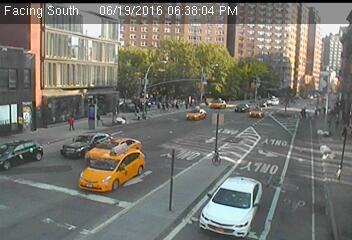neg: (174, 139, 190, 161), (184, 84, 200, 105), (134, 155, 149, 176), (146, 121, 160, 140), (225, 122, 239, 140), (108, 149, 121, 168), (298, 104, 310, 121), (232, 65, 244, 82), (150, 188, 162, 203), (173, 195, 185, 210), (138, 74, 149, 90), (274, 138, 285, 153), (208, 74, 219, 89), (222, 191, 232, 205), (267, 68, 277, 82), (75, 168, 85, 181), (133, 103, 142, 115), (169, 78, 178, 89), (127, 139, 135, 149), (261, 111, 268, 120)
pos: (64, 112, 76, 128), (173, 99, 181, 109), (160, 101, 167, 110), (165, 100, 171, 109), (157, 101, 162, 108), (170, 101, 174, 107)
